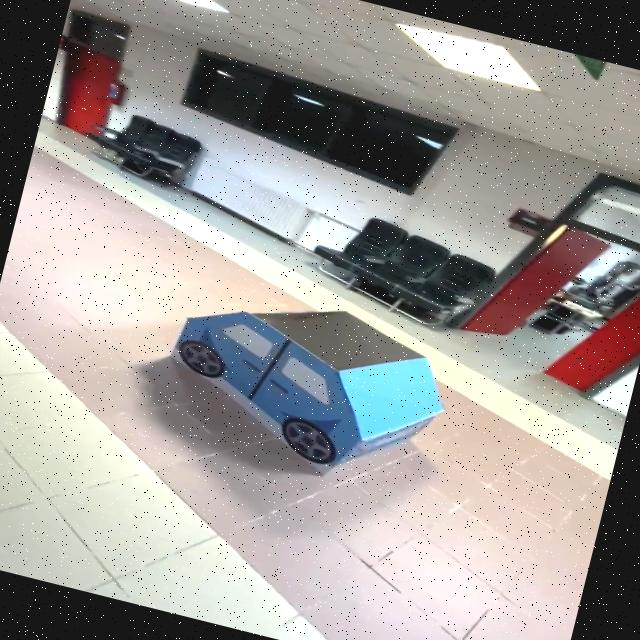blue_car: (134, 259, 478, 506)
